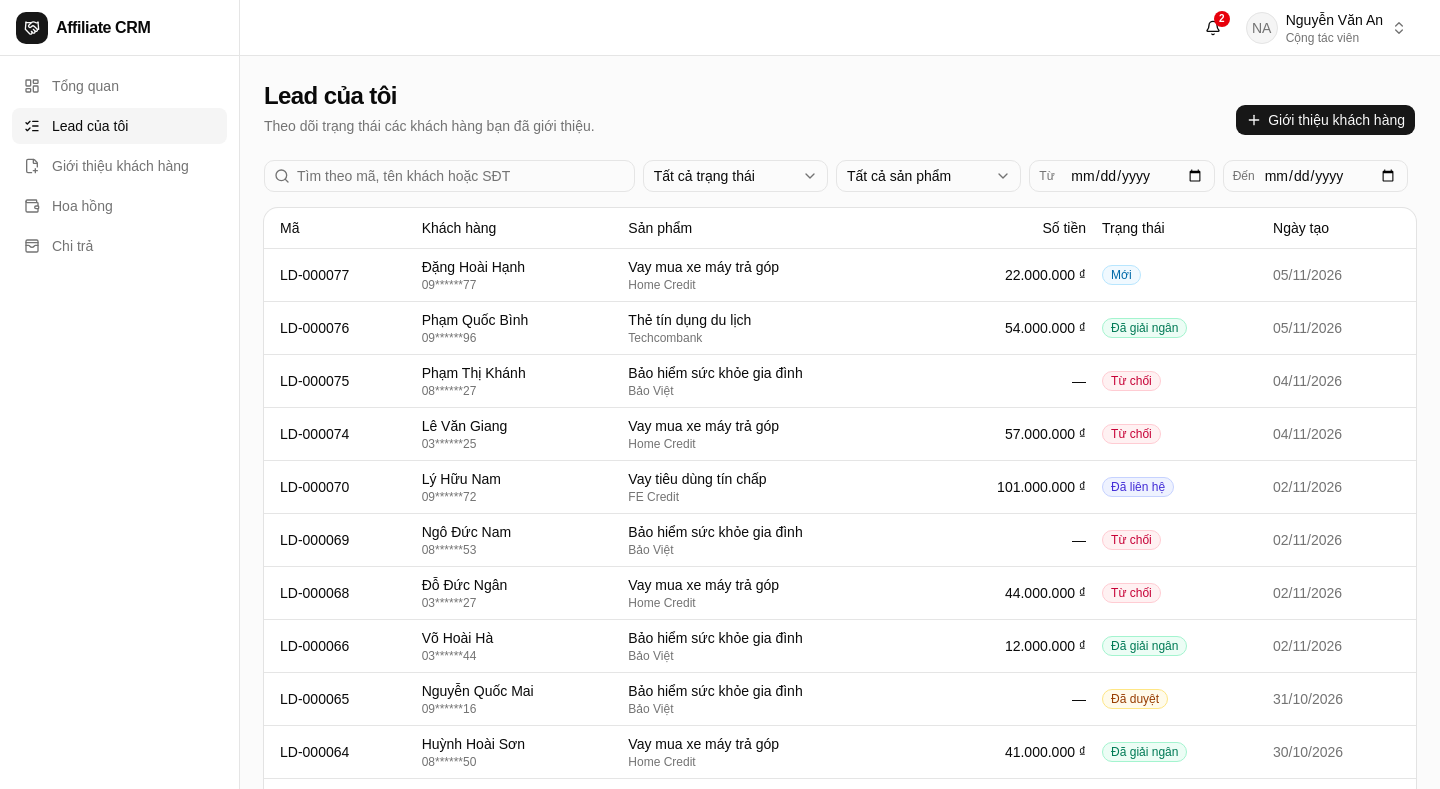
Scenario: LeadsPage (affiliate) › filters by status through the URL
This screenshot has width=1440, height=789.
Select "Từ chối" in the dropdown named "Trạng thái": (735, 176) x1=643 y1=160 x2=828 y2=192
(page scrolled)
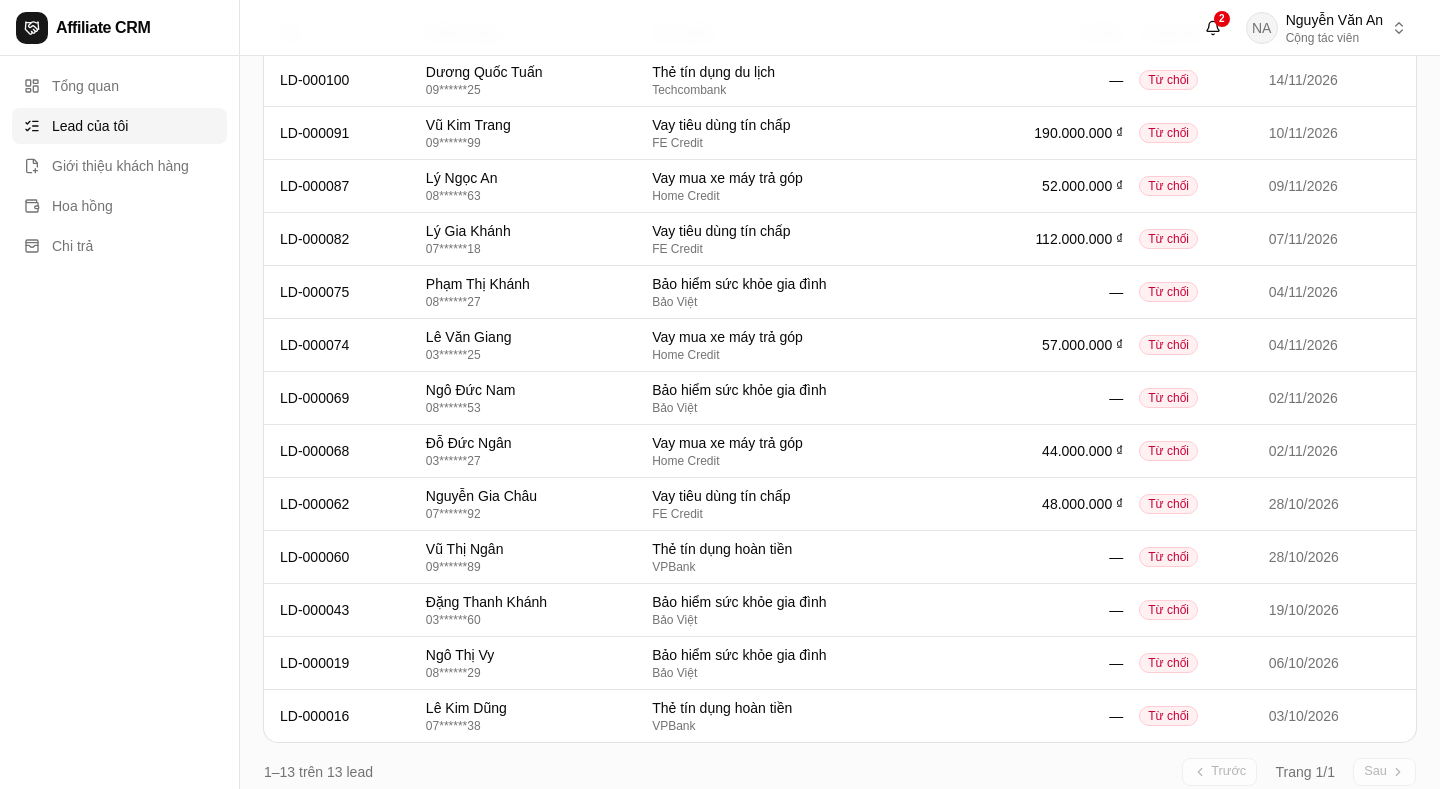
expect the icon "Từ chối" in the row of "LD-000100" is shown: met, box x1=1148 y1=73 x2=1189 y2=87
expect the icon "Từ chối" in the row of "LD-000091" is shown: met, box x1=1148 y1=126 x2=1189 y2=140
expect the icon "Từ chối" in the row of "LD-000087" is shown: met, box x1=1148 y1=179 x2=1189 y2=193
